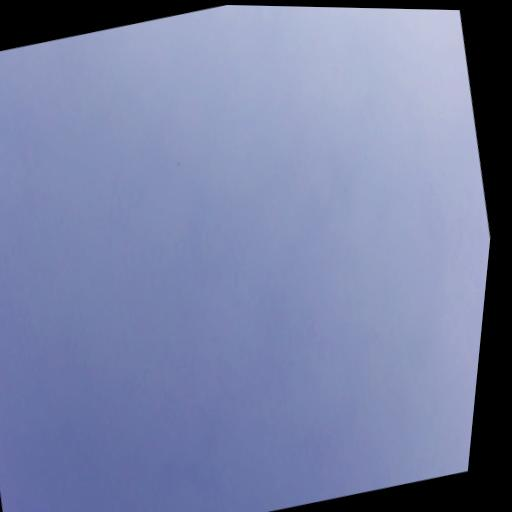drones: (176, 161, 182, 168)
